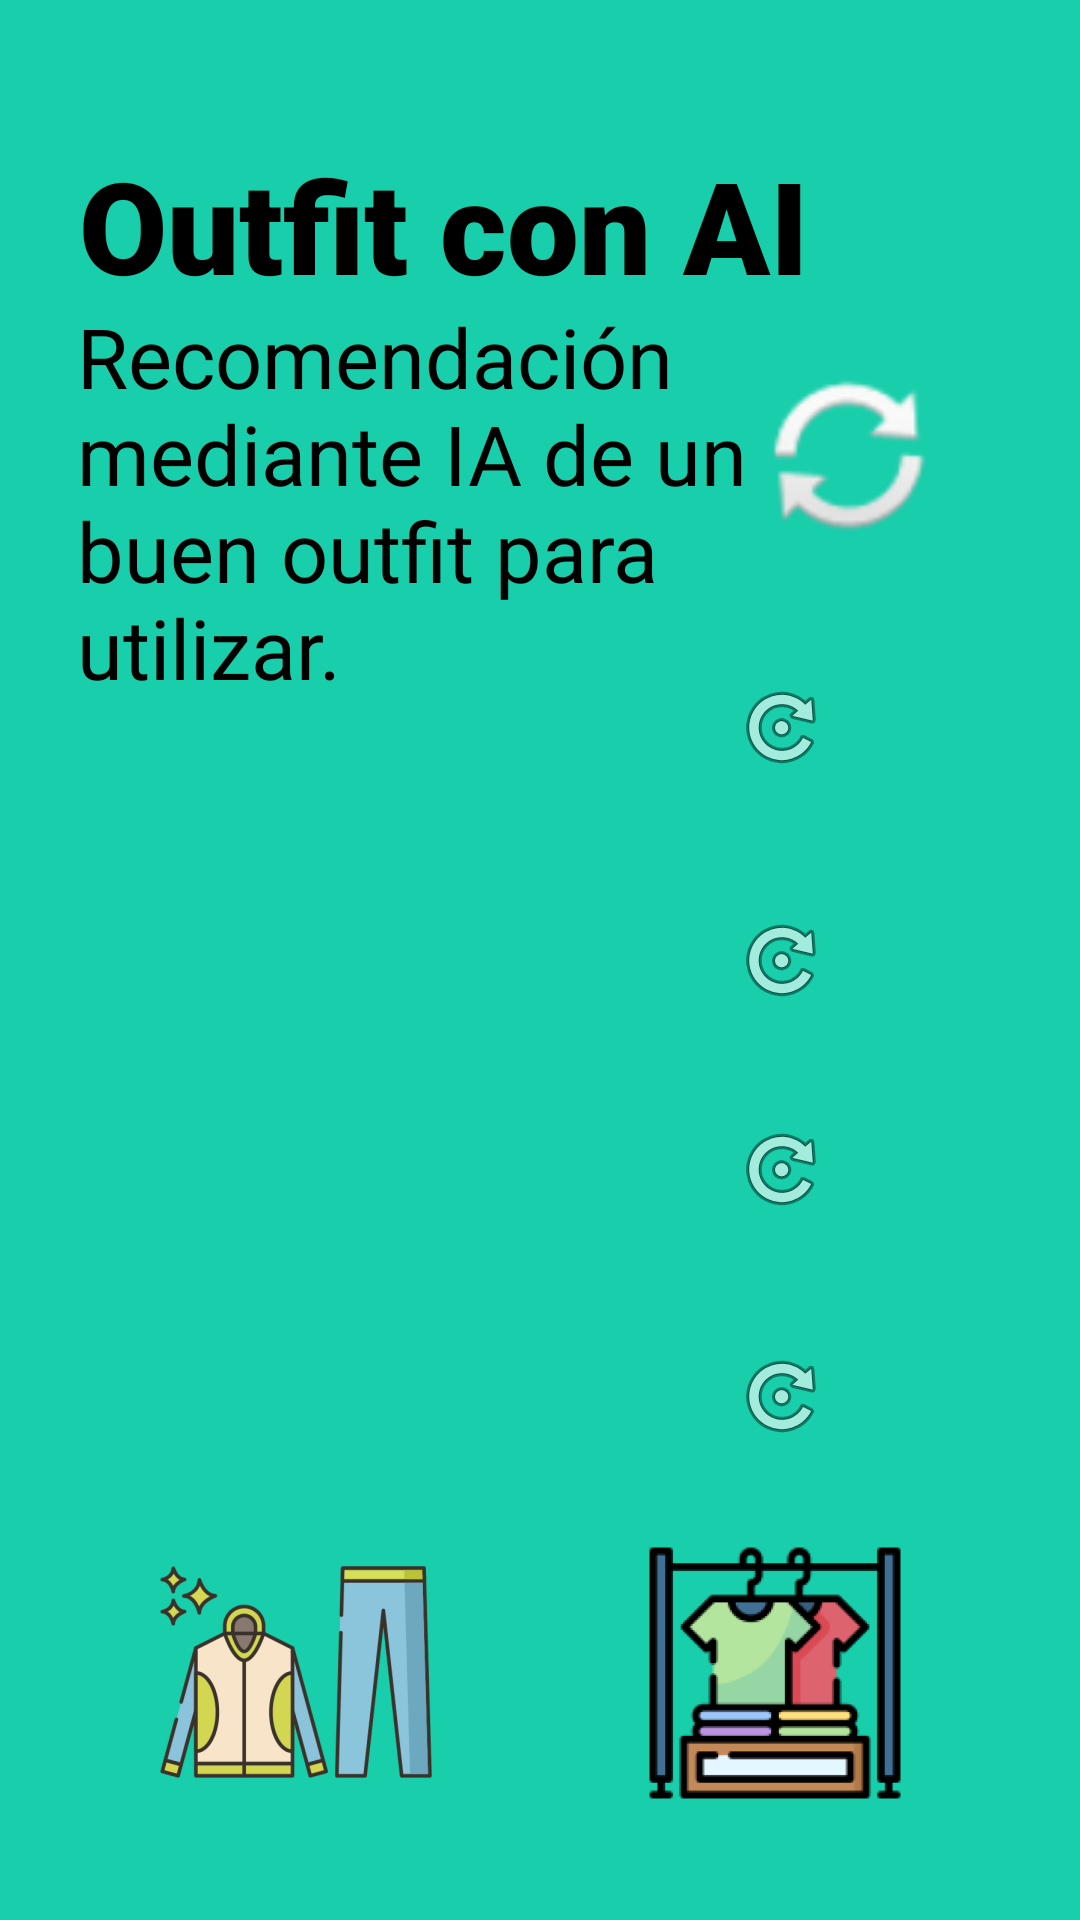

Screen size 1080px x 1920px. Icon name, then its box in pixels as [x1,y1,x2,y2]:
ia crea outfit: [160,1566,432,1778]
popup sync: [707,381,925,530]
rotate: [746,692,816,763], [746,925,816,996], [746,1134,816,1205], [746,1361,816,1432]
tus prendas home: [649,1547,901,1799]
